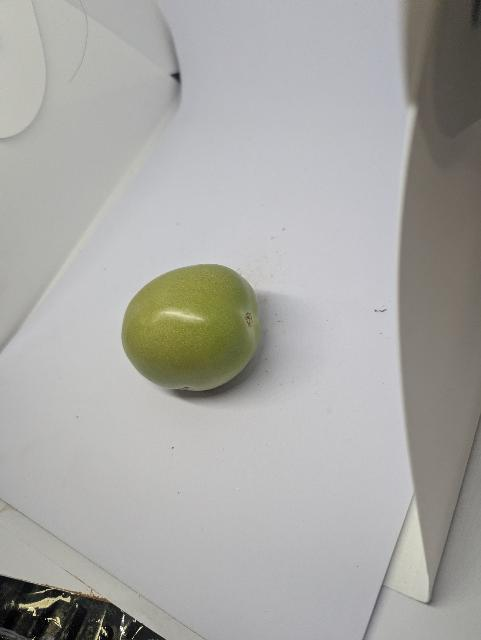green: (115, 240, 291, 398)
